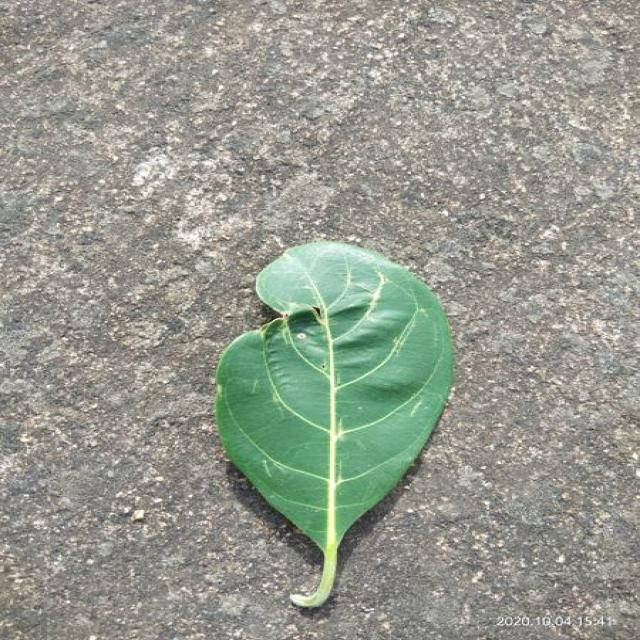leaf: (213, 239, 455, 609)
